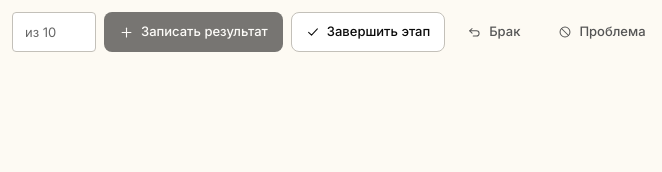
Test: StageActionsPanel — запись частичной готовности › после записи поле снова пустое — следующее число вводится осознанно
Type "4" into the number field named "Сколько сделано" at [54, 32], box [12,12,96,52]
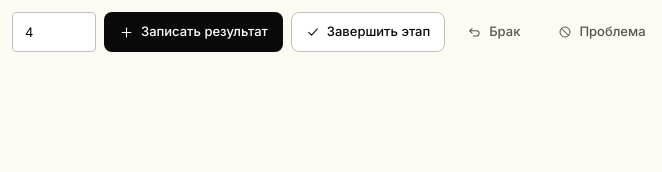
Click the button "Записать результат" at [193, 32], box [104,12,283,52]
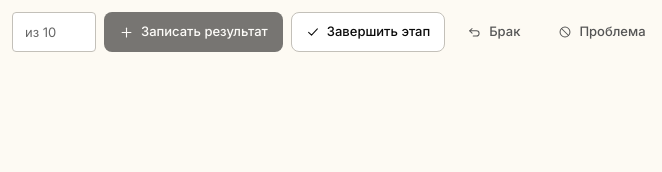
Now the number field named "Сколько сделано" is not empty, box [12,12,96,52]
